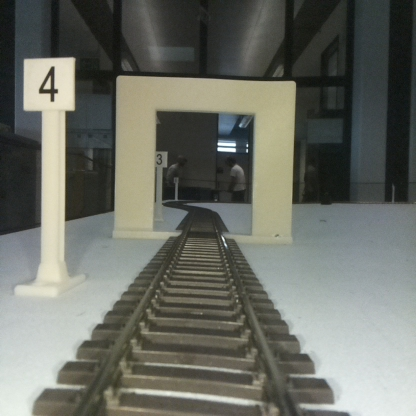white-info-3: (154, 151, 167, 219)
white-info-4: (23, 56, 74, 292)
